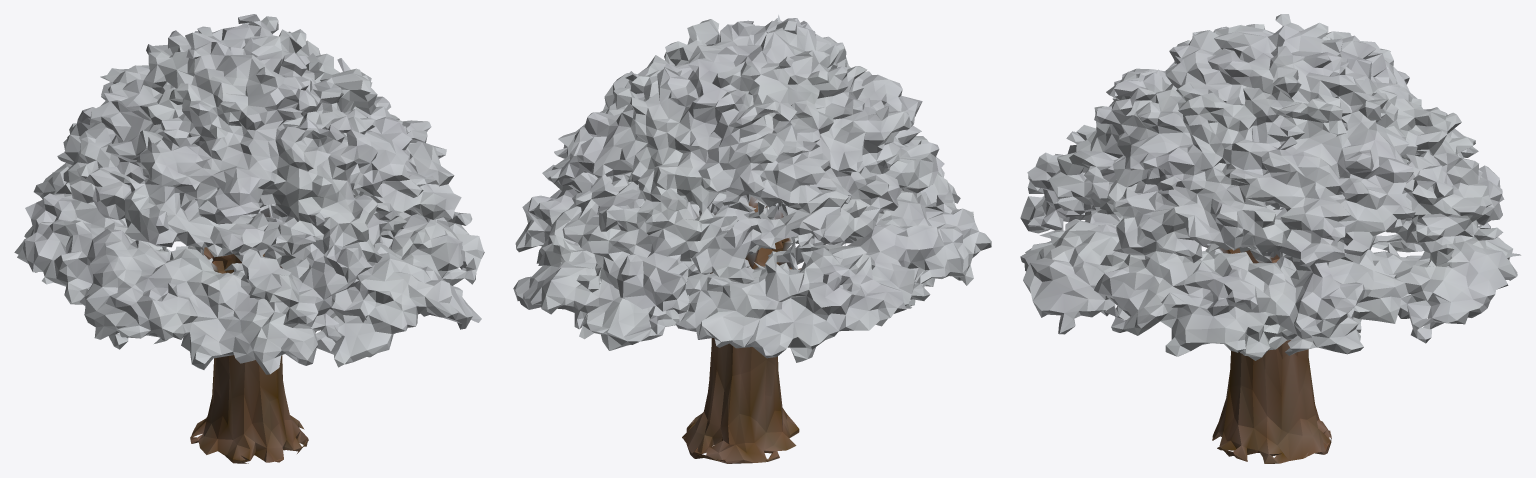
Rendered from silverleaf_tree.glb.
3 views of the same model, side by side, from view 1: azimuth 30°, elevation 25°; view 2: azimuth 150°, elevation 25°; view 3: azimuth 270°, elevation 25° (orthographic).
Parts seen in each view (by area): view 1: world; view 2: world; view 3: world.
Part boxes in pixels (x1,y1,x2,y2): world: (14,14,484,463); world: (513,14,991,463); world: (1020,14,1521,463).
Size of the model in its own units: 4.5 by 4.5 by 5.03.
